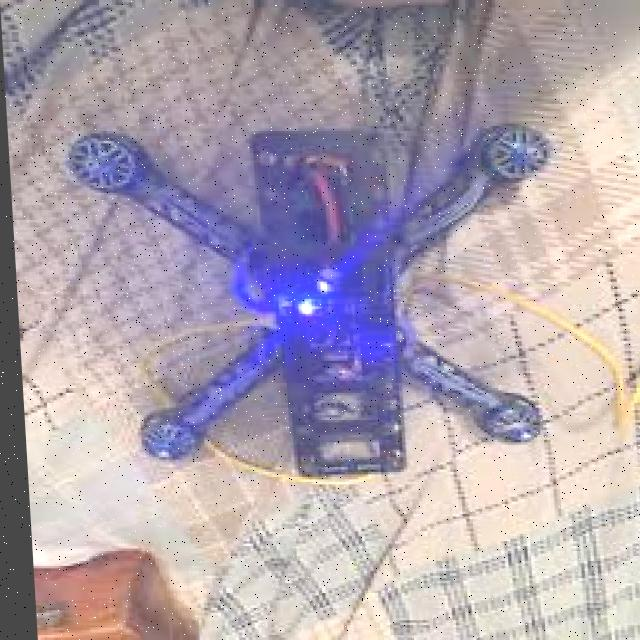drone: (69, 70, 579, 520)
